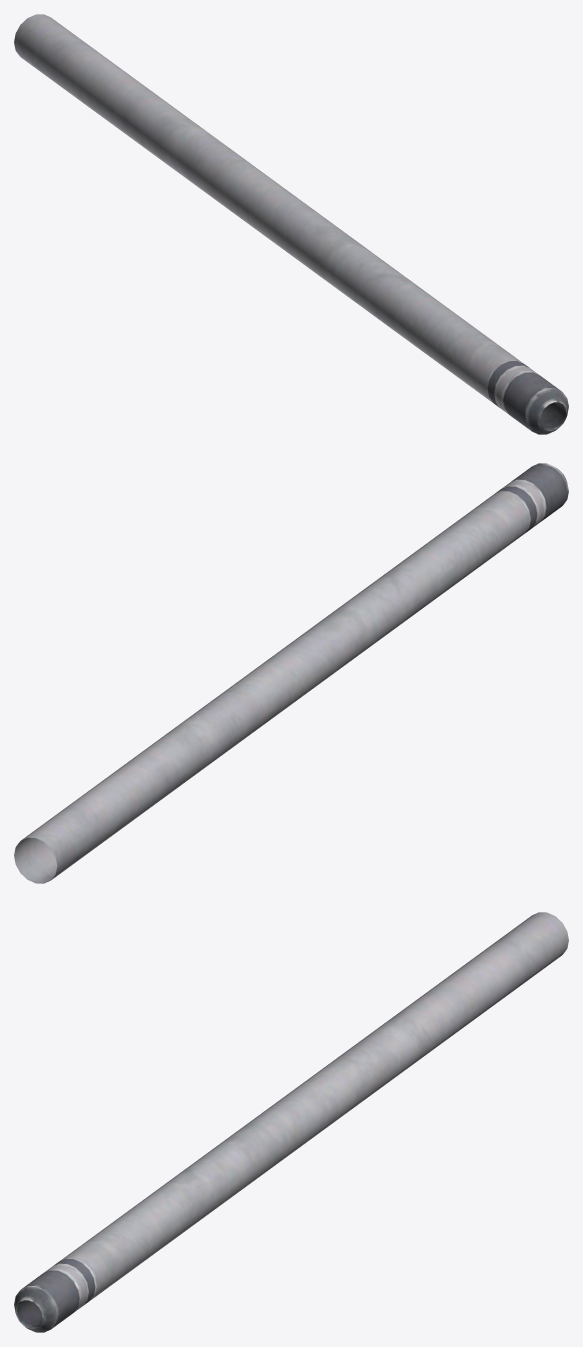
File: spacestation_turret_barrel_s02_l0.fbx
3 renders of one model, top to bottom at view 1: azimuth 30°, elevation 25°; view 2: azimuth 150°, elevation 25°; view 3: azimuth 330°, elevation 25°, orthographic.
Parts seen in each view (by area): view 1: mesh_node; view 2: mesh_node; view 3: mesh_node.
Part boxes in pixels (bbox=[...]): mesh_node: bbox=[14, 14, 568, 434]; mesh_node: bbox=[14, 463, 568, 883]; mesh_node: bbox=[14, 912, 568, 1332].
Size of the model in its own units: 0.3055 by 0.3059 by 6.32.
